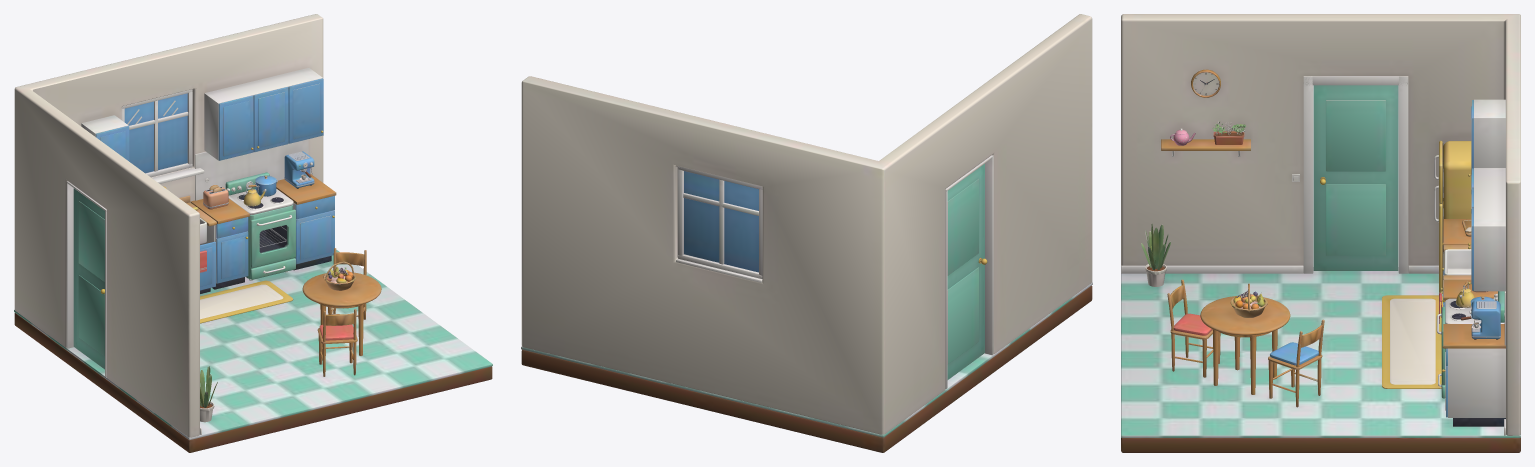
File: kitchen.glb
3 views of the same model, side by side, from view 1: azimuth 30°, elevation 25°; view 2: azimuth 150°, elevation 25°; view 3: azimuth 270°, elevation 25° (orthographic). The views are drawn at different scales.
Parts seen in each view (by area): view 1: kitchen_body, kitchen_stove_glass; view 2: kitchen_body; view 3: kitchen_body.
Boxes of the visible parts, <box> form: kitchen_body: <box>14,14,492,452</box>; kitchen_stove_glass: <box>260,225,287,252</box>; kitchen_body: <box>521,14,1092,452</box>; kitchen_body: <box>1121,14,1520,452</box>.
Bounding box in the file's own units: 4 × 3 × 4.
Materials: 4 (1 with a texture image).
